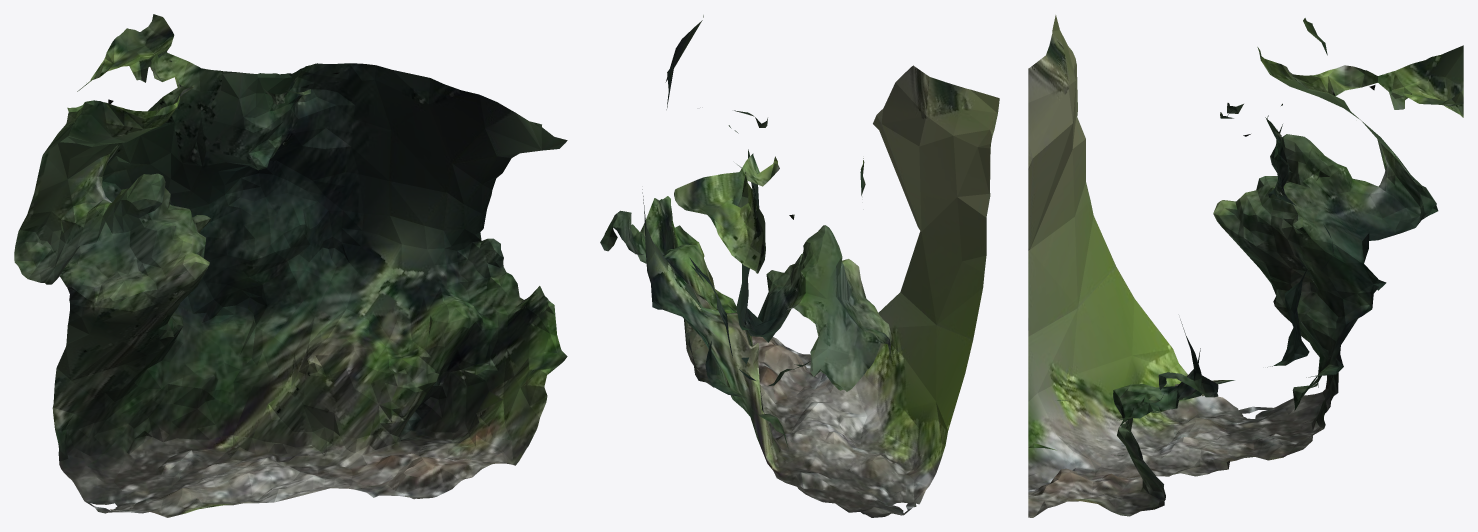
3 renders of one model, left to right at view 1: azimuth 30°, elevation 25°; view 2: azimuth 150°, elevation 25°; view 3: azimuth 270°, elevation 25°, orthographic. The views are drawn at different scales.
Size of the model in its own units: 26.11 by 26.11 by 26.11.
Materials: 5 (5 with a texture image).
